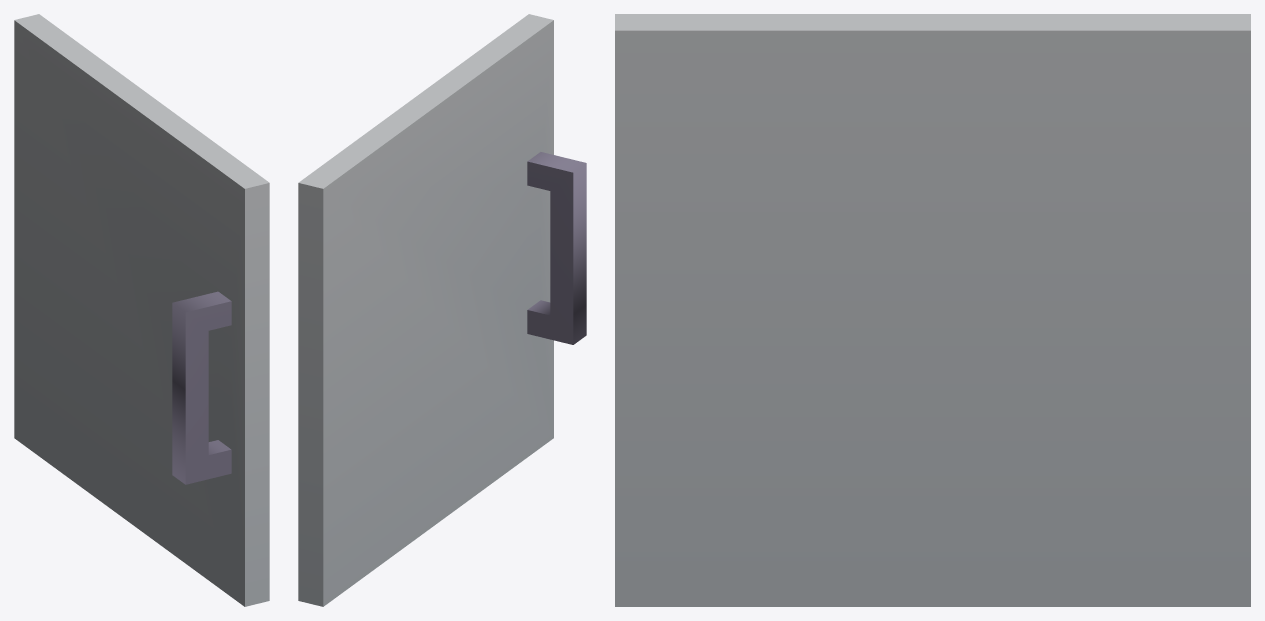
Rendered from (%no-merge) (%open-left) (%low) 16.glb.
3 renders of one model, left to right at view 1: azimuth 30°, elevation 25°; view 2: azimuth 150°, elevation 25°; view 3: azimuth 270°, elevation 25°, orthographic. The views are drawn at different scales.
Parts seen in each view (by area): view 1: (%no-merge) (%open-left) (%low) 16(Clone); view 2: (%no-merge) (%open-left) (%low) 16(Clone); view 3: (%no-merge) (%open-left) (%low) 16(Clone).
Part boxes in pixels (x1,y1,x2,y2): (%no-merge) (%open-left) (%low) 16(Clone): (14,14,269,606); (%no-merge) (%open-left) (%low) 16(Clone): (298,14,586,606); (%no-merge) (%open-left) (%low) 16(Clone): (615,14,1250,606).
Size of the model in its own units: 0.071 by 0.4 by 0.4.
